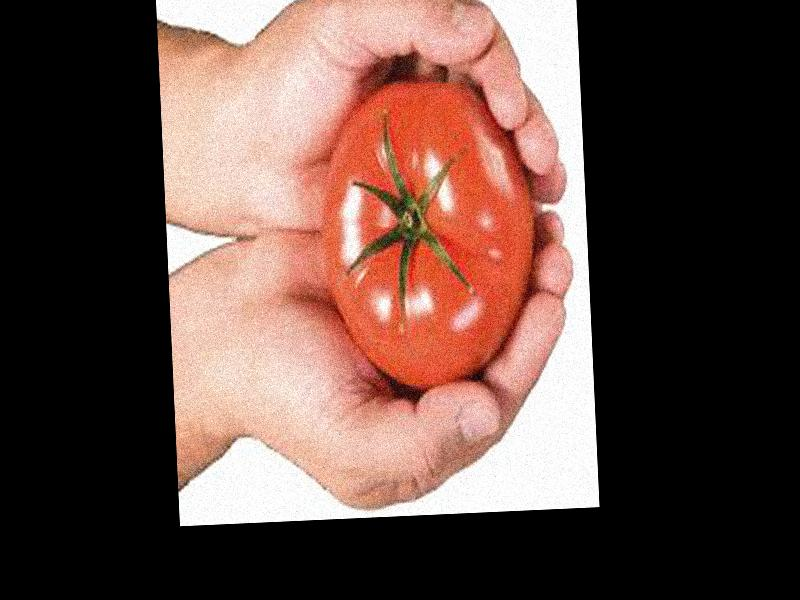Tomato: (318, 73, 538, 393)
